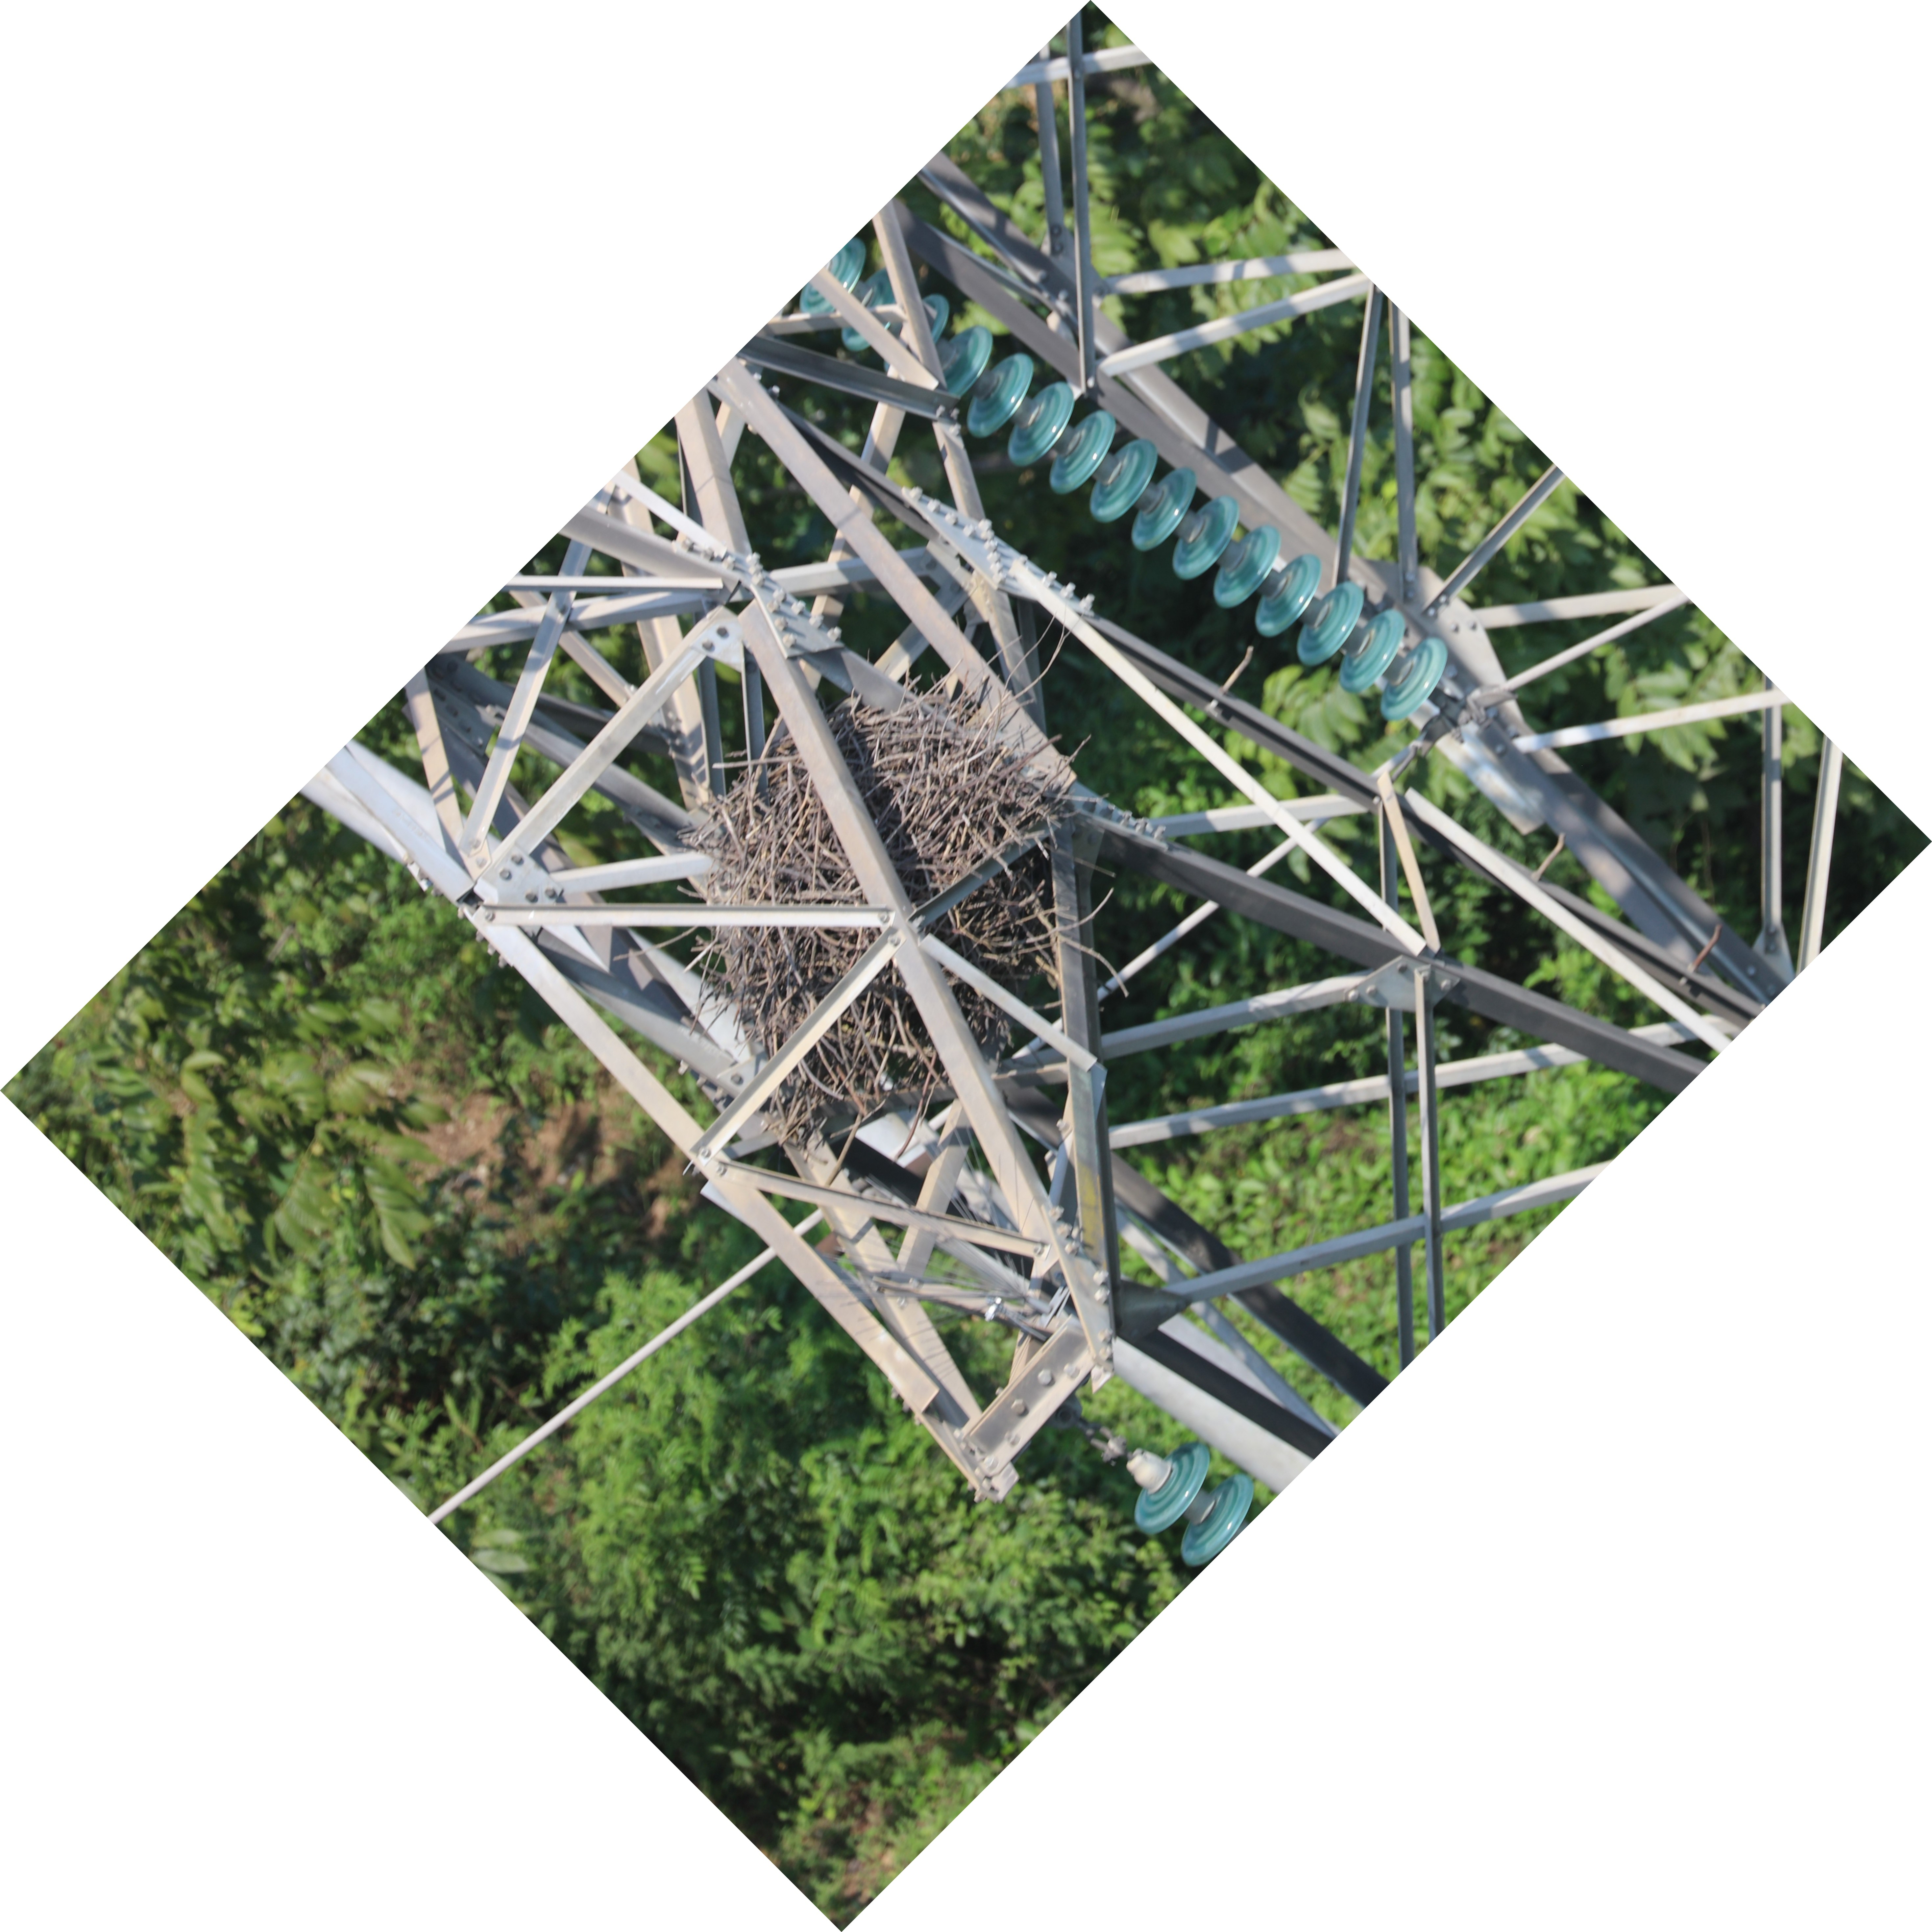niaowo: (644, 688, 1099, 1123)
